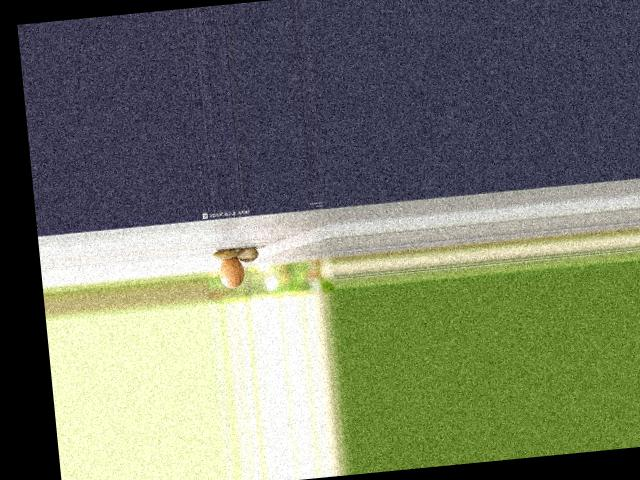egg: (218, 256, 246, 288)
